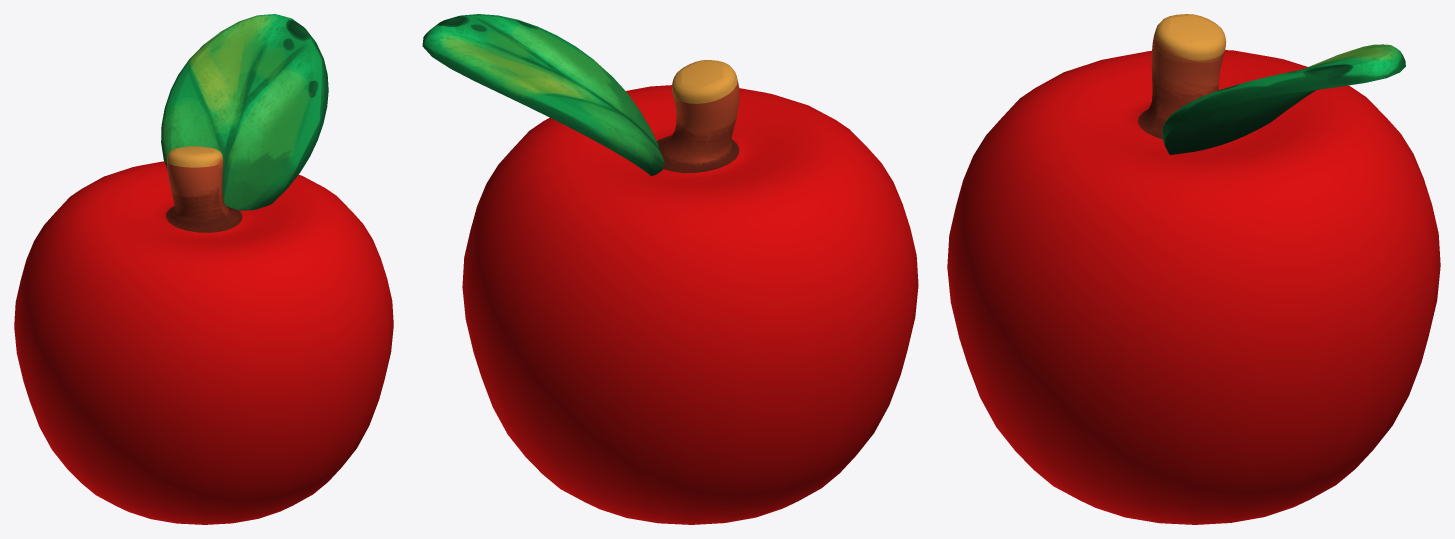
File: Apple.fbx
3 views of the same model, side by side, from view 1: azimuth 30°, elevation 25°; view 2: azimuth 150°, elevation 25°; view 3: azimuth 270°, elevation 25° (orthographic). The views are drawn at different scales.
Parts seen in each view (by area): view 1: Apple; view 2: Apple; view 3: Apple.
Boxes of the visible parts, box(x1,y1,x2,y2) form: Apple: box(14, 14, 393, 524); Apple: box(422, 14, 918, 524); Apple: box(947, 14, 1440, 524).
Size of the model in its own units: 193 by 216 by 192.
2 materials, 2 textured.
